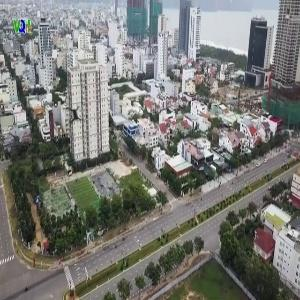drone: (52, 94, 96, 138)
